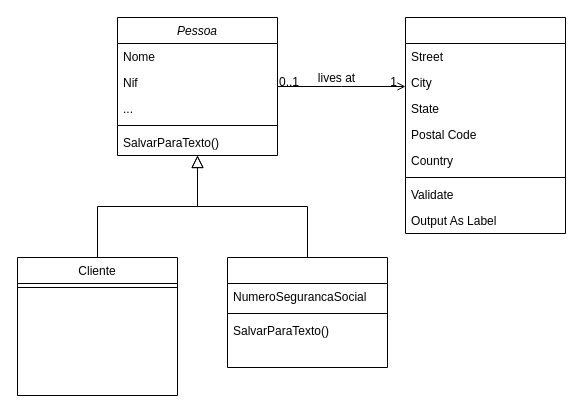
Image size: 583x413. Some labels were removed from this diagram. The shapes that lost their labels are listed below. From the top down, each one's box as (x1, y1, x2, y2) in pixels, then its label:
(404, 16, 566, 234): Address
(226, 256, 388, 368): Funcionario
